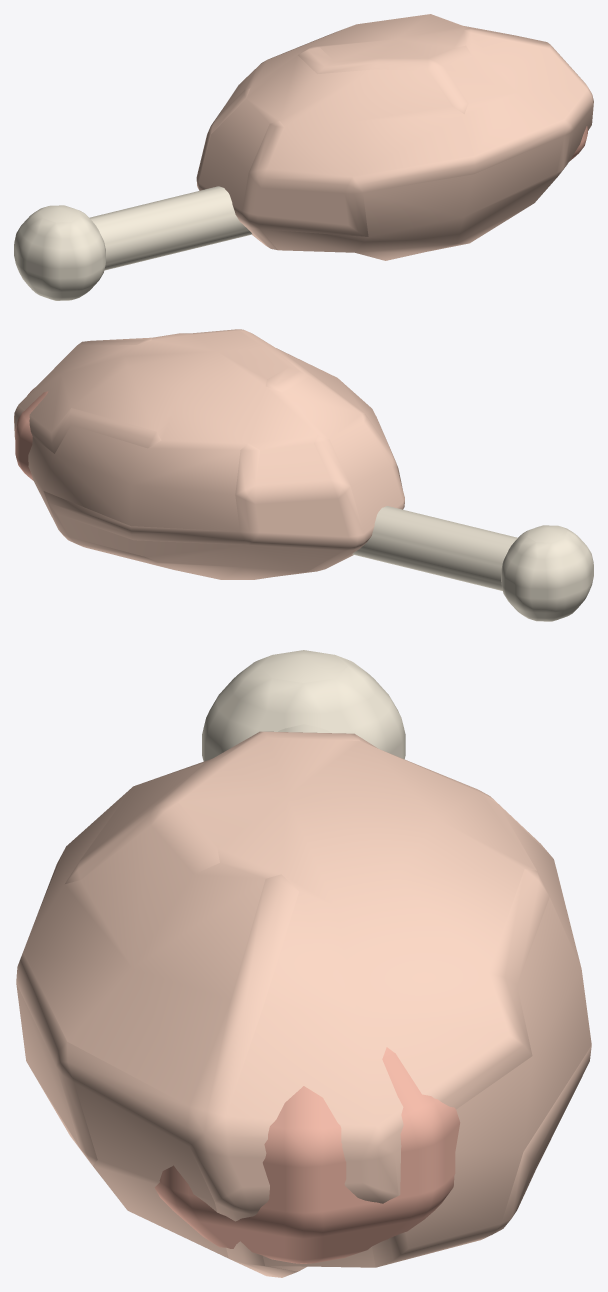
Rendered from Chicken.glb.
3 renders of one model, top to bottom at view 1: azimuth 30°, elevation 25°; view 2: azimuth 150°, elevation 25°; view 3: azimuth 270°, elevation 25°, orthographic. The views are drawn at different scales.
Parts seen in each view (by area): view 1: Chicken; view 2: Chicken; view 3: Chicken.
Part boxes in pixels (x1,y1,x2,y2): Chicken: (14,14,593,300); Chicken: (14,329,593,621); Chicken: (16,650,591,1277).
Bounding box in the file's own units: 0.1945 × 0.0679 × 0.0871.
